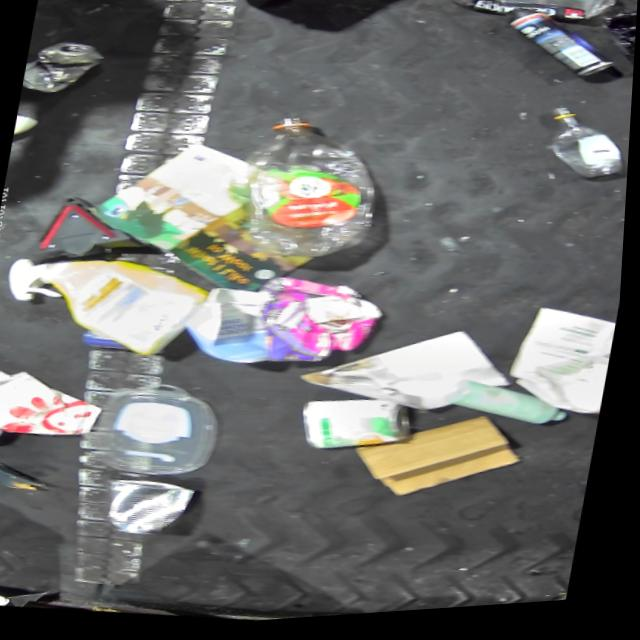can: (489, 11, 621, 95), (297, 393, 424, 467), (101, 474, 207, 545), (21, 35, 108, 101), (0, 407, 13, 448)
non_white_jug: (0, 244, 221, 374)
plastic_bottle: (228, 107, 392, 275), (383, 0, 626, 45), (537, 107, 633, 193)
